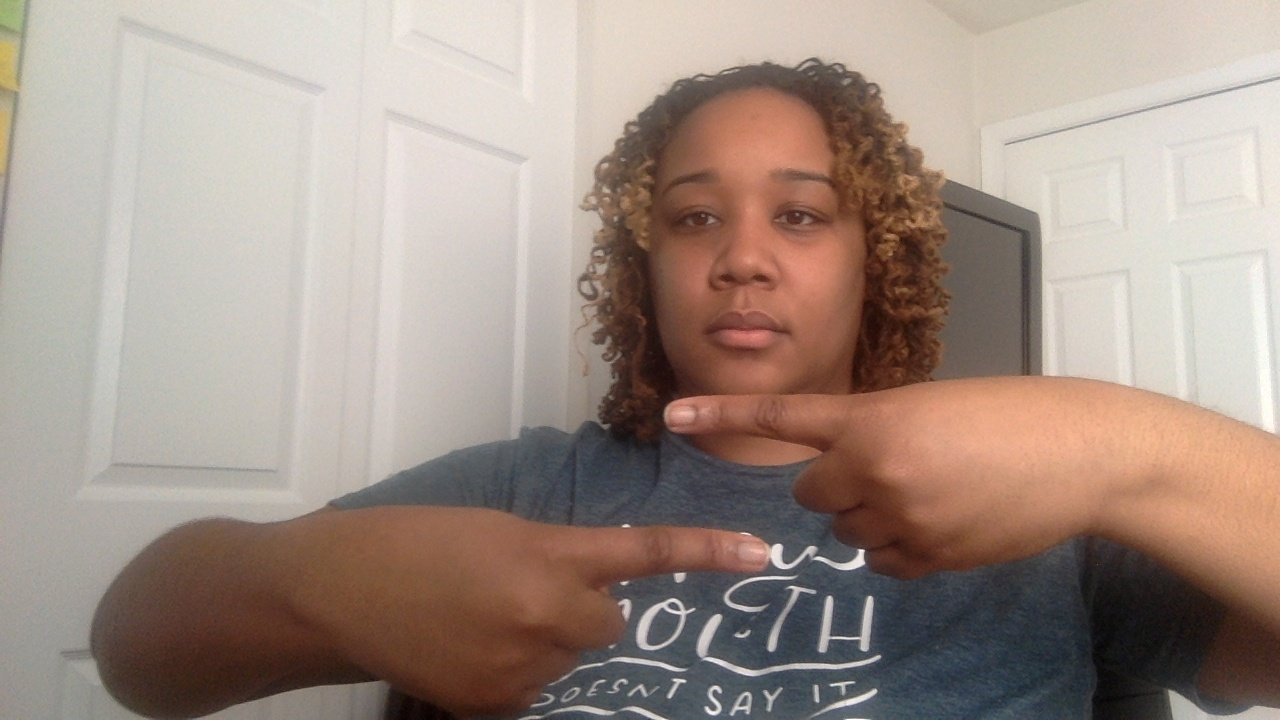go: (75, 373, 1280, 713)
